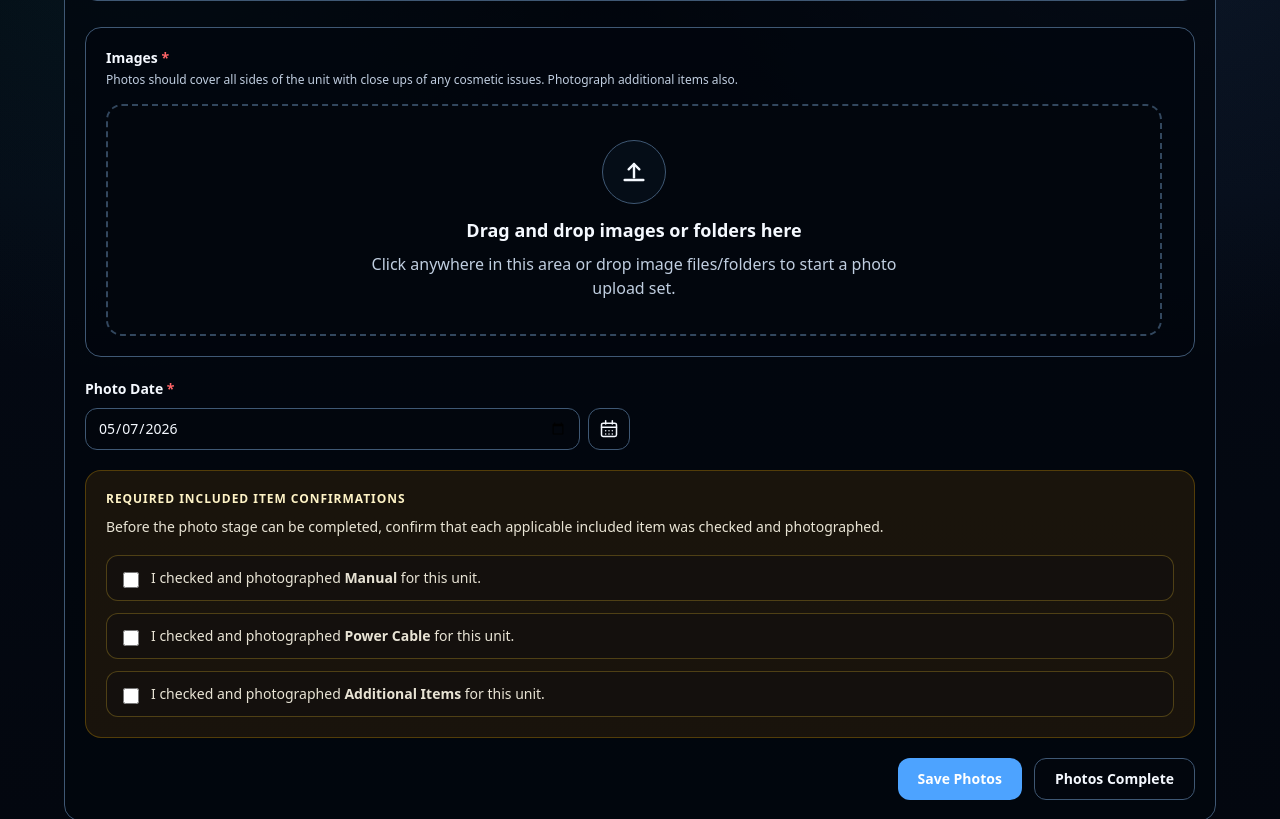
Test case: PhotosFormTab › blocks save when no images exist on the record or in the upload editor
(page scrolled)
What coordinates should you click on to do the following:
click the button "Save Photos"
I would click on:
 (960, 779)
Its box is [898,758,1022,800].
(page scrolled)
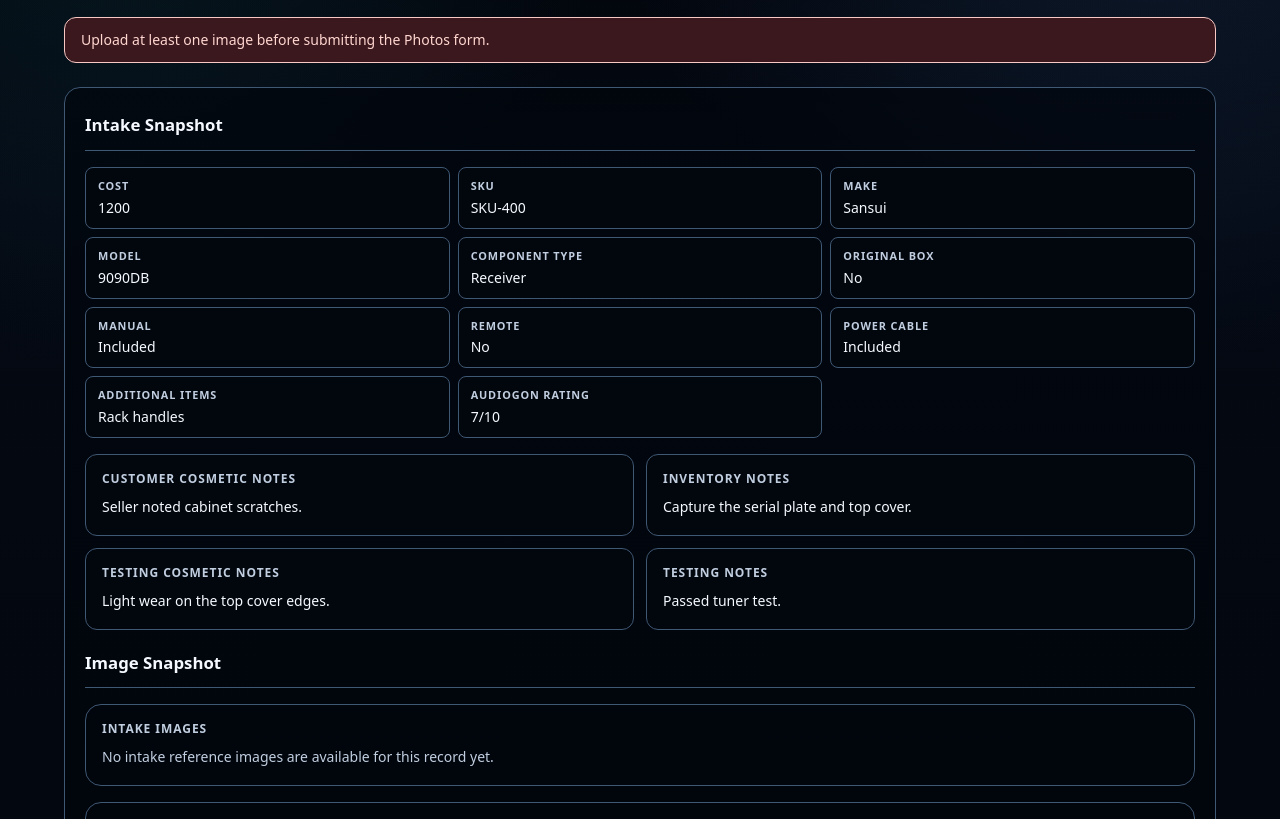
Expected: the text "Upload at least one image before submitting the Photos form." is shown, [64,17,1216,63]
